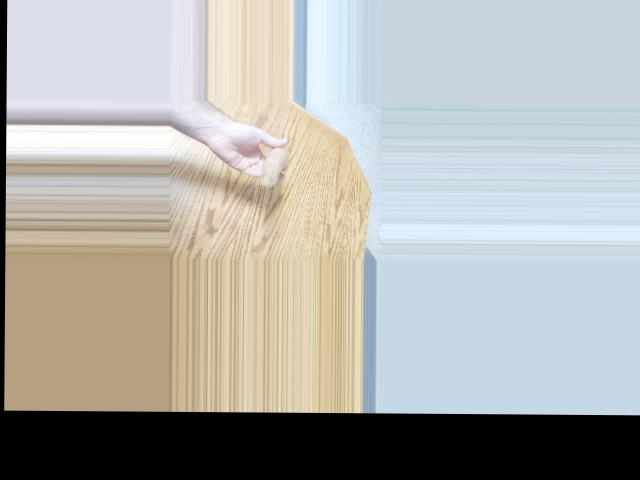sweet_potato: (258, 143, 284, 187)
